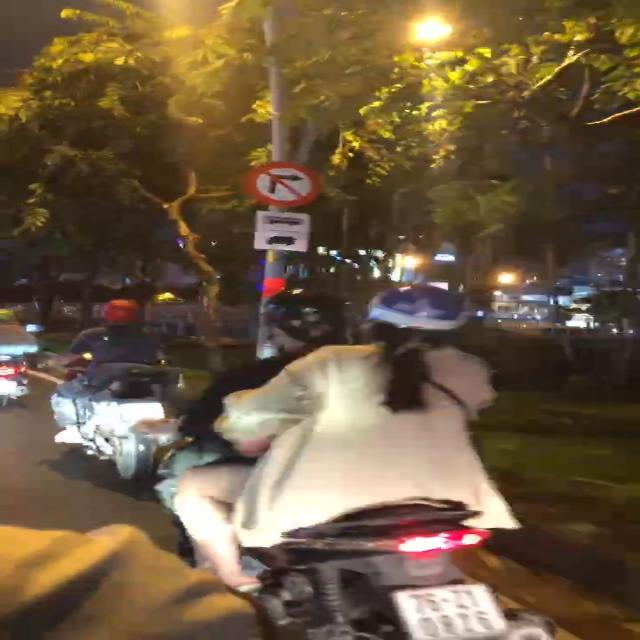Bien bao cam re phai: (246, 157, 326, 210)
